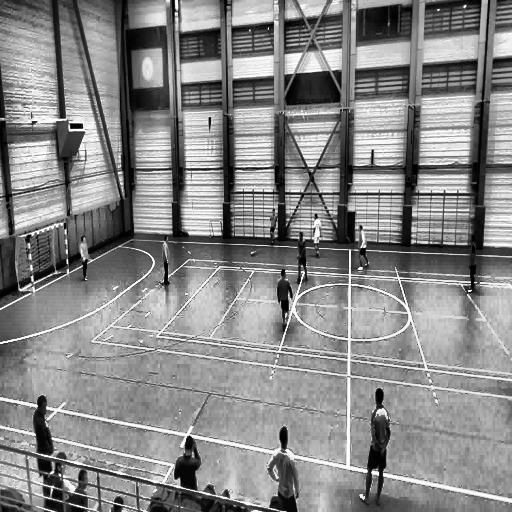ball: (249, 249, 256, 259)
player: (357, 388, 390, 505), (271, 426, 301, 512), (33, 399, 54, 490), (278, 269, 292, 332), (466, 232, 478, 291), (296, 232, 308, 282), (358, 224, 369, 270), (79, 234, 90, 280), (312, 213, 322, 257), (162, 235, 170, 286), (269, 209, 276, 245)
